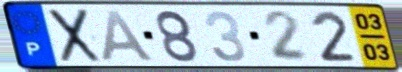2: (262, 9, 312, 64), (309, 9, 359, 63)
3: (204, 9, 247, 63)
8: (154, 9, 200, 64)
A: (99, 8, 158, 64)
X: (47, 7, 104, 65)
